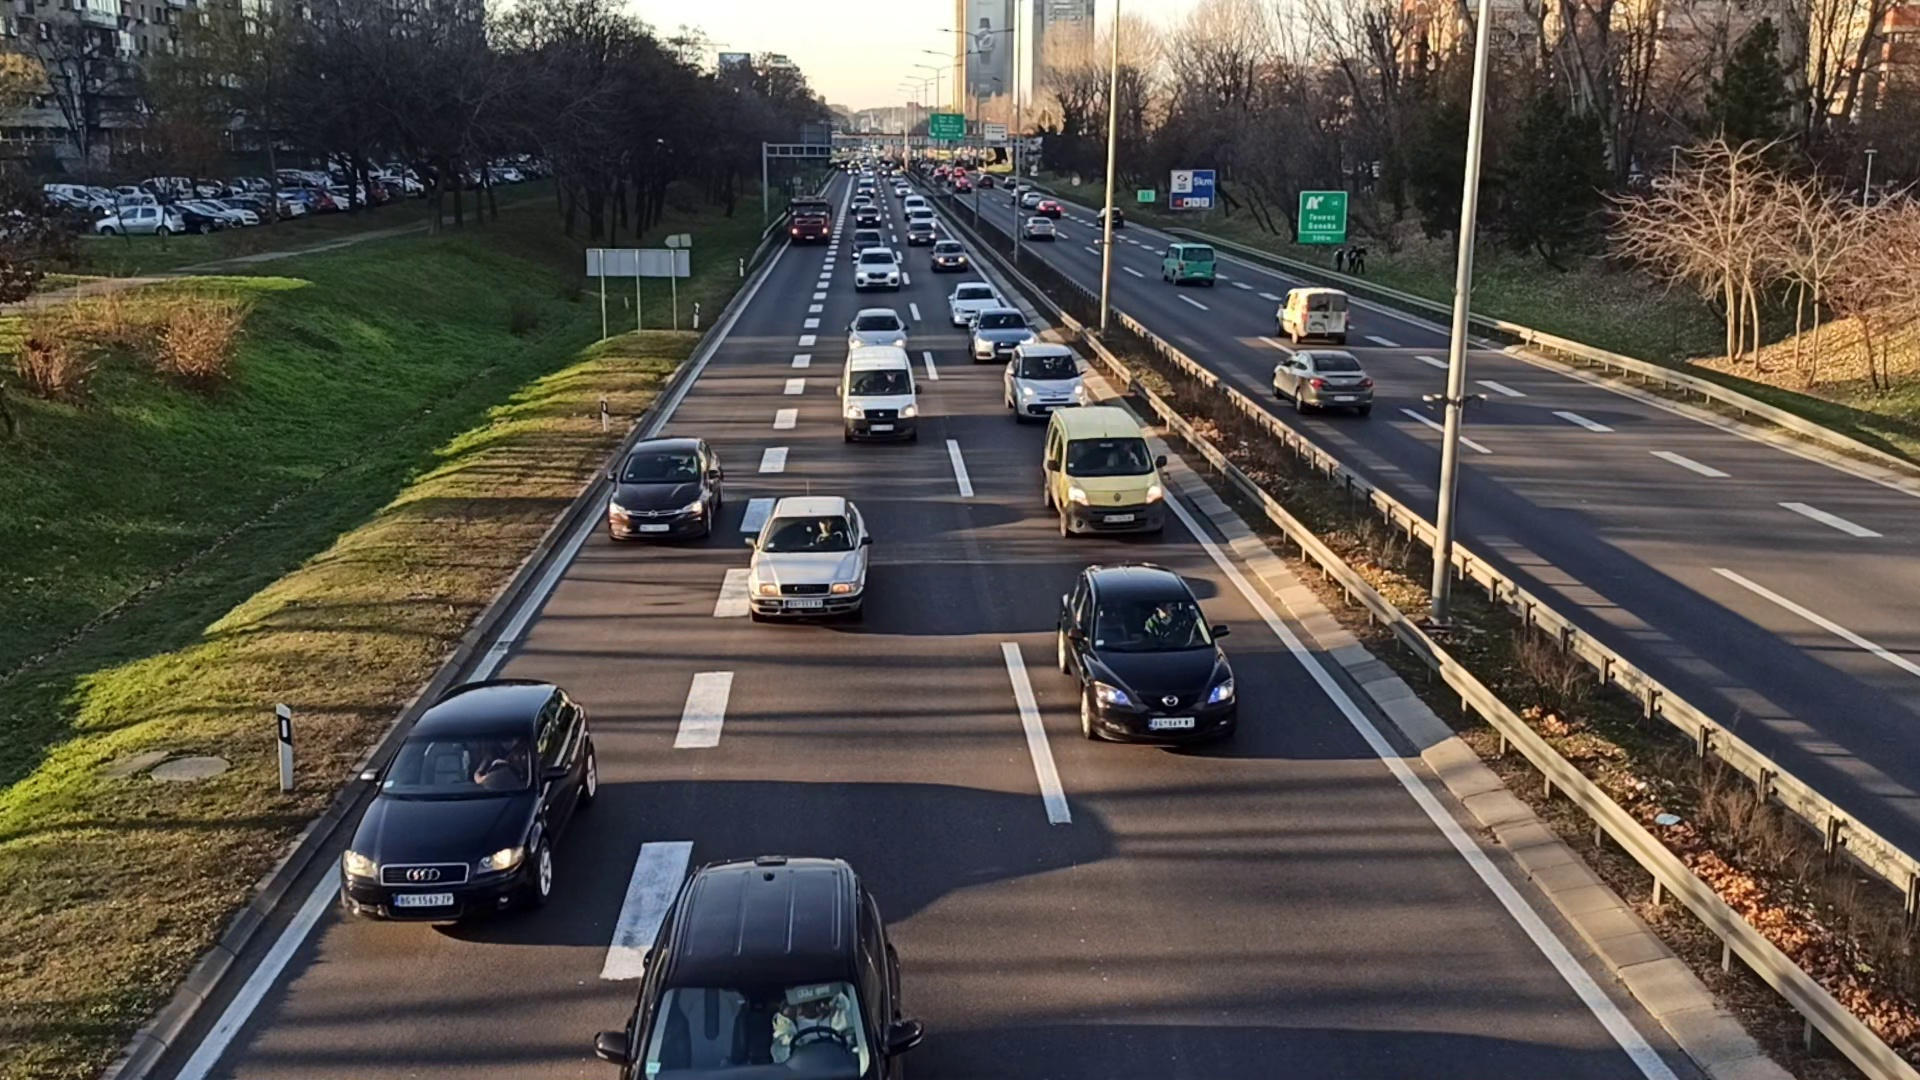car: (624, 855, 909, 1080), (338, 680, 600, 915), (1055, 574, 1240, 746), (748, 495, 876, 618), (609, 440, 723, 545), (1269, 353, 1374, 425), (1005, 348, 1080, 419), (971, 309, 1033, 360), (851, 247, 901, 291), (952, 280, 1000, 324)
truck: (789, 195, 829, 248)
van: (1042, 406, 1166, 539), (840, 347, 919, 442), (1275, 285, 1348, 339), (1160, 240, 1216, 285)
